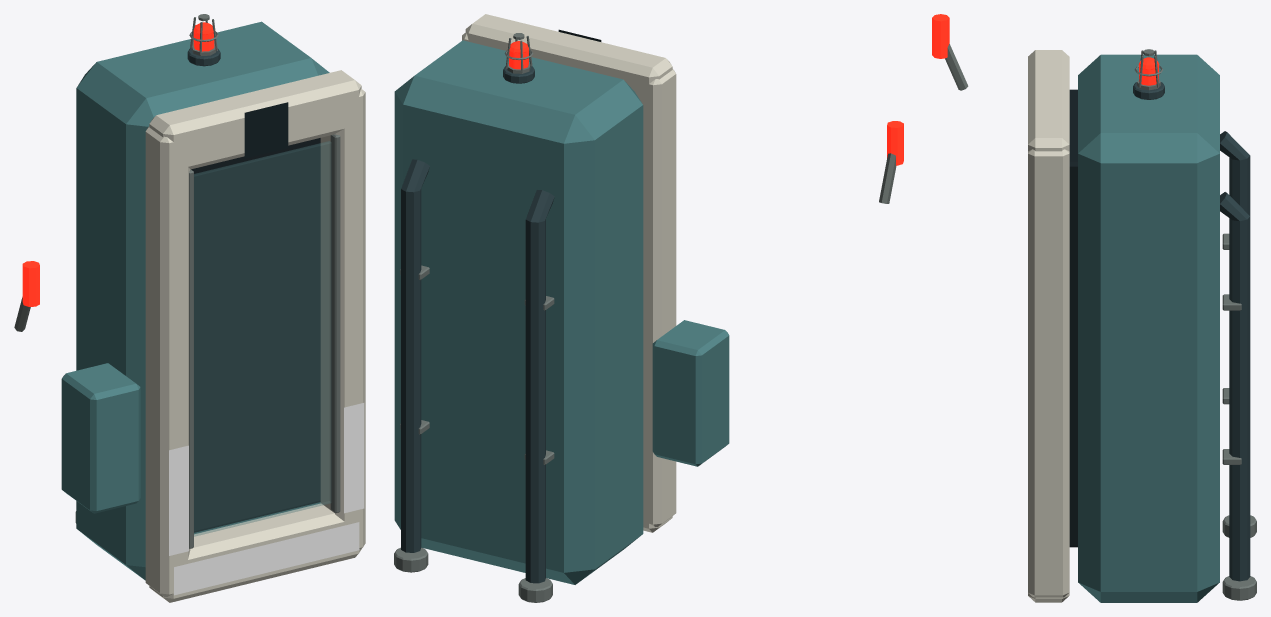
File: containment-capsule.glb
3 views of the same model, side by side, from view 1: azimuth 30°, elevation 25°; view 2: azimuth 150°, elevation 25°; view 3: azimuth 270°, elevation 25° (orthographic). The views are drawn at different scales.
Visible parts, largest first — view 1: containment-capsule__capsule-door__glass, containment-capsule__containment-capsule__petrol, containment-capsule__containment-capsule__rubber, containment-capsule__containment-capsule__ivory, containment-capsule__containment-capsule__decal-hazard, containment-capsule__capsule-door__hardware, containment-capsule__containment-capsule__decal-indigo, containment-capsule__release-lever__danger-red, containment-capsule__containment-capsule__hardware, containment-capsule__containment-capsule__danger-red; view 2: containment-capsule__containment-capsule__petrol, containment-capsule__containment-capsule__ivory, containment-capsule__containment-capsule__steel, containment-capsule__containment-capsule__hardware; view 3: containment-capsule__containment-capsule__petrol, containment-capsule__containment-capsule__ivory, containment-capsule__containment-capsule__steel, containment-capsule__containment-capsule__rubber, containment-capsule__containment-capsule__hardware, containment-capsule__release-lever__danger-red, containment-capsule__release-lever__hardware.
Part boxes in pixels (bbox=[...]): containment-capsule__capsule-door__glass: bbox=[194, 141, 331, 536]; containment-capsule__containment-capsule__petrol: bbox=[61, 21, 329, 580]; containment-capsule__containment-capsule__rubber: bbox=[191, 138, 320, 532]; containment-capsule__containment-capsule__ivory: bbox=[145, 70, 365, 602]; containment-capsule__containment-capsule__decal-hazard: bbox=[169, 403, 364, 595]; containment-capsule__capsule-door__hardware: bbox=[189, 134, 340, 548]; containment-capsule__containment-capsule__decal-indigo: bbox=[244, 102, 288, 158]; containment-capsule__release-lever__danger-red: bbox=[22, 261, 39, 306]; containment-capsule__containment-capsule__hardware: bbox=[75, 14, 218, 523]; containment-capsule__containment-capsule__danger-red: bbox=[193, 22, 214, 51]; containment-capsule__containment-capsule__petrol: bbox=[394, 40, 729, 584]; containment-capsule__containment-capsule__ivory: bbox=[462, 14, 676, 532]; containment-capsule__containment-capsule__steel: bbox=[401, 66, 554, 583]; containment-capsule__containment-capsule__hardware: bbox=[394, 33, 554, 602]; containment-capsule__containment-capsule__petrol: bbox=[1078, 54, 1219, 602]; containment-capsule__containment-capsule__ivory: bbox=[1028, 50, 1069, 602]; containment-capsule__containment-capsule__steel: bbox=[1133, 82, 1250, 581]; containment-capsule__containment-capsule__rubber: bbox=[1069, 89, 1077, 547]; containment-capsule__containment-capsule__hardware: bbox=[1134, 49, 1256, 600]; containment-capsule__release-lever__danger-red: bbox=[932, 14, 949, 58]; containment-capsule__release-lever__hardware: bbox=[945, 43, 968, 90].
Bounding box in the file's own units: 2.32 × 2.99 × 1.72.
